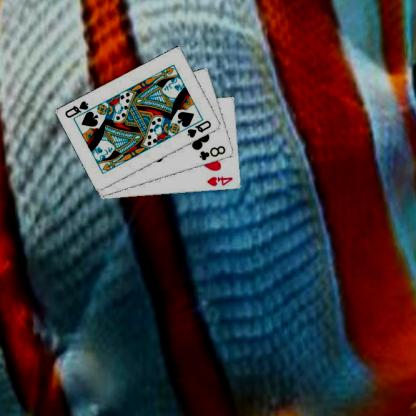4H: (207, 174, 236, 187)
8C: (198, 143, 228, 162)
QS: (64, 98, 92, 119), (187, 118, 214, 139)
